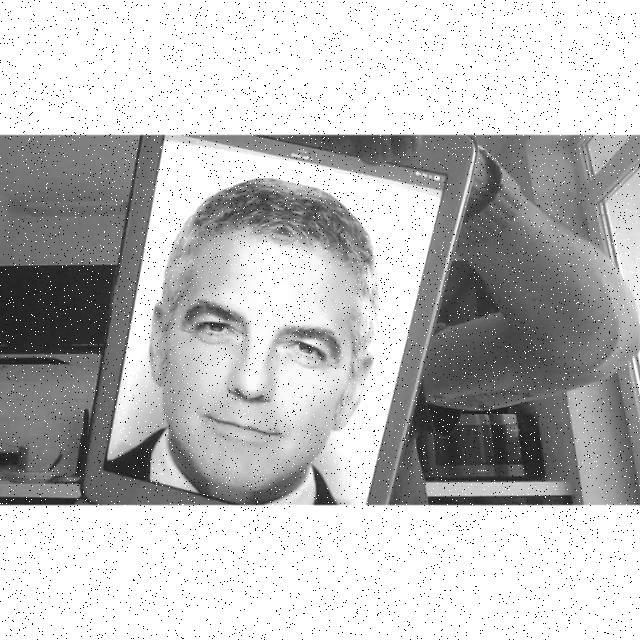fake: (79, 136, 481, 505)
